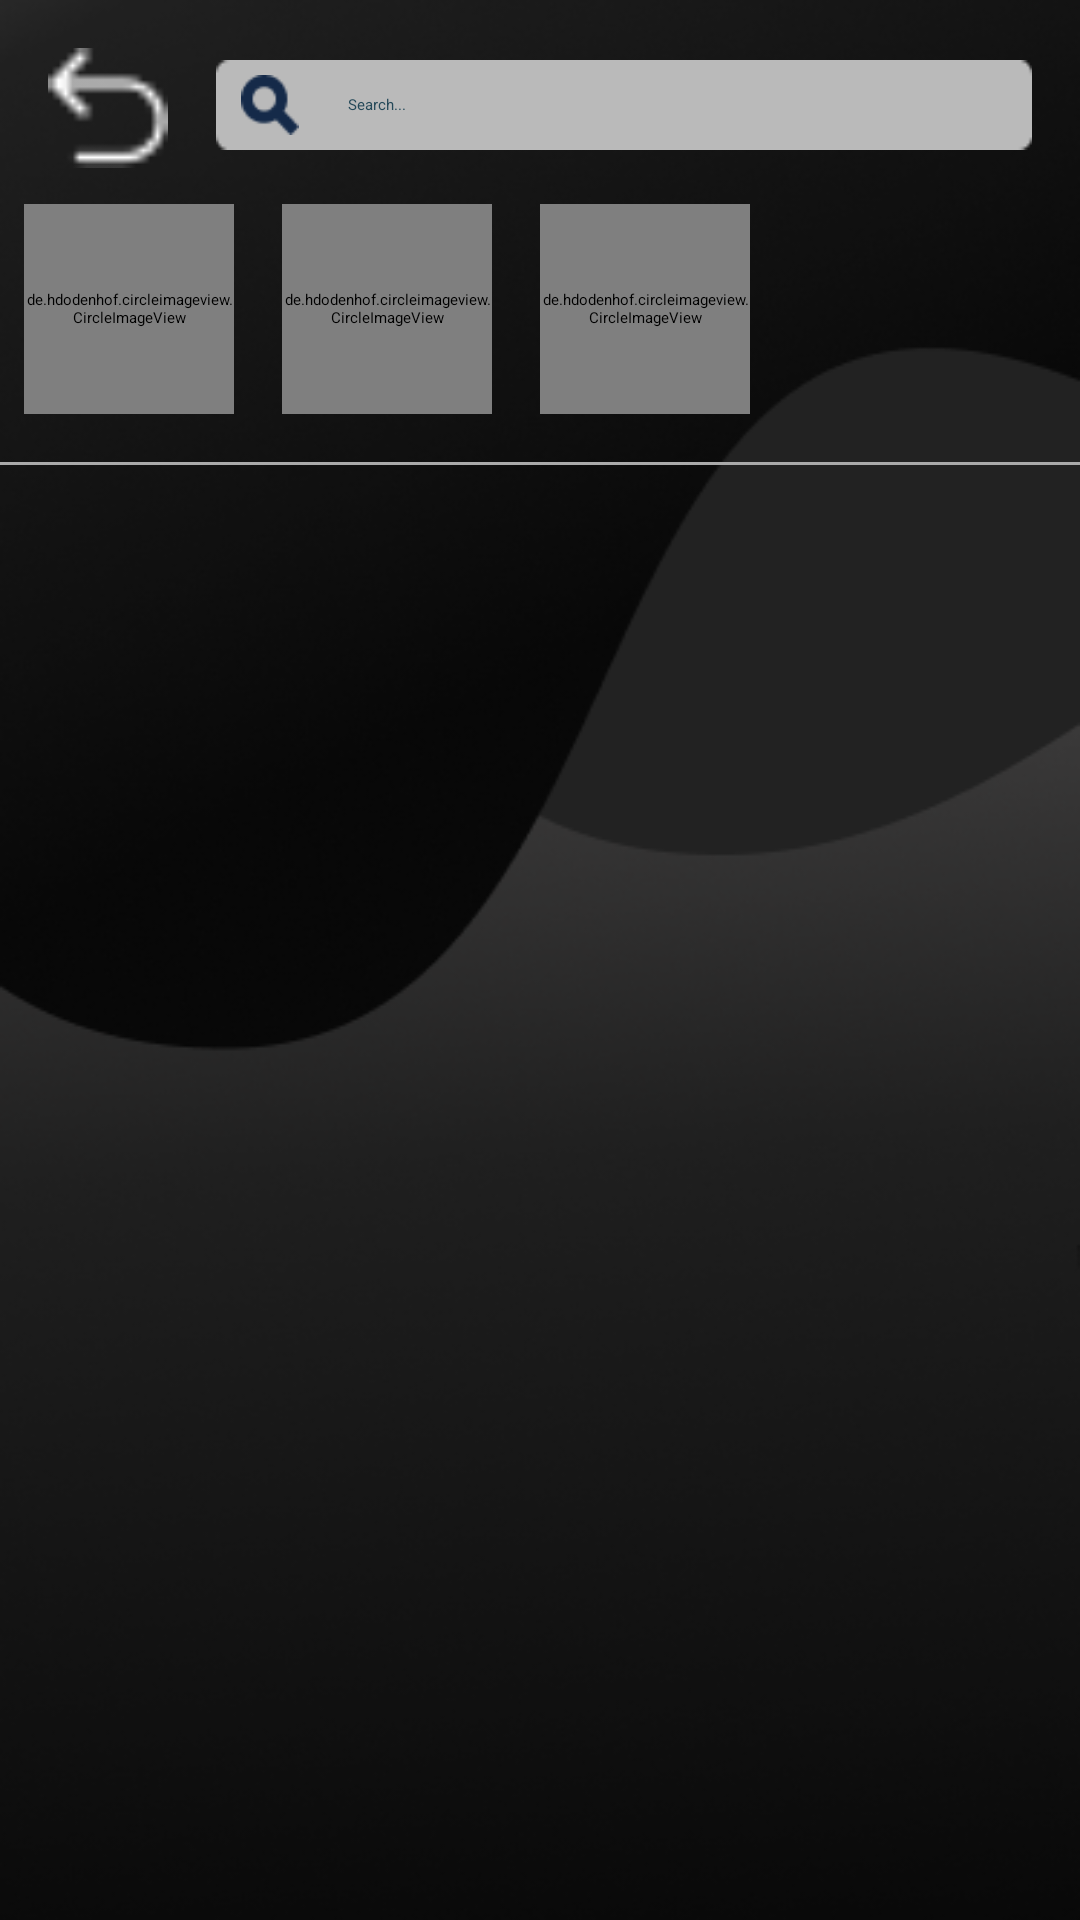

Where to tap for icons on this 1080px×1920px app screen, as (x,y):
backbutton: (108,108)
